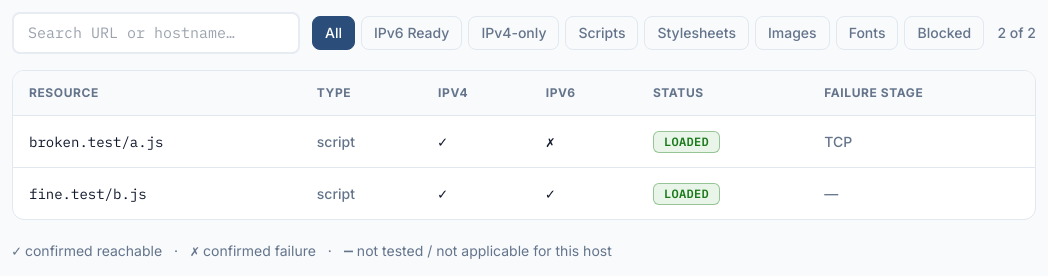
Test: ResourceTable › the IPv4-only filter selects exactly the IPv4-works/IPv6-fails resources
Click the button "IPv4-only" at (514, 33), box [468,16,560,50]
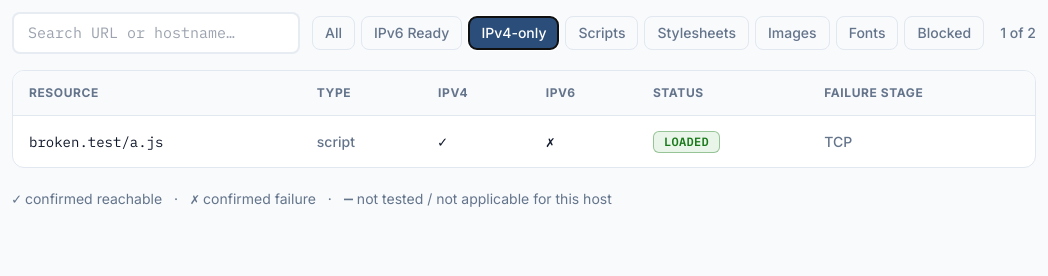
Expected: the text "broken.test/a.js" is shown, [13,116,301,167]
Expected: the text "fine.test/b.js" is gone
